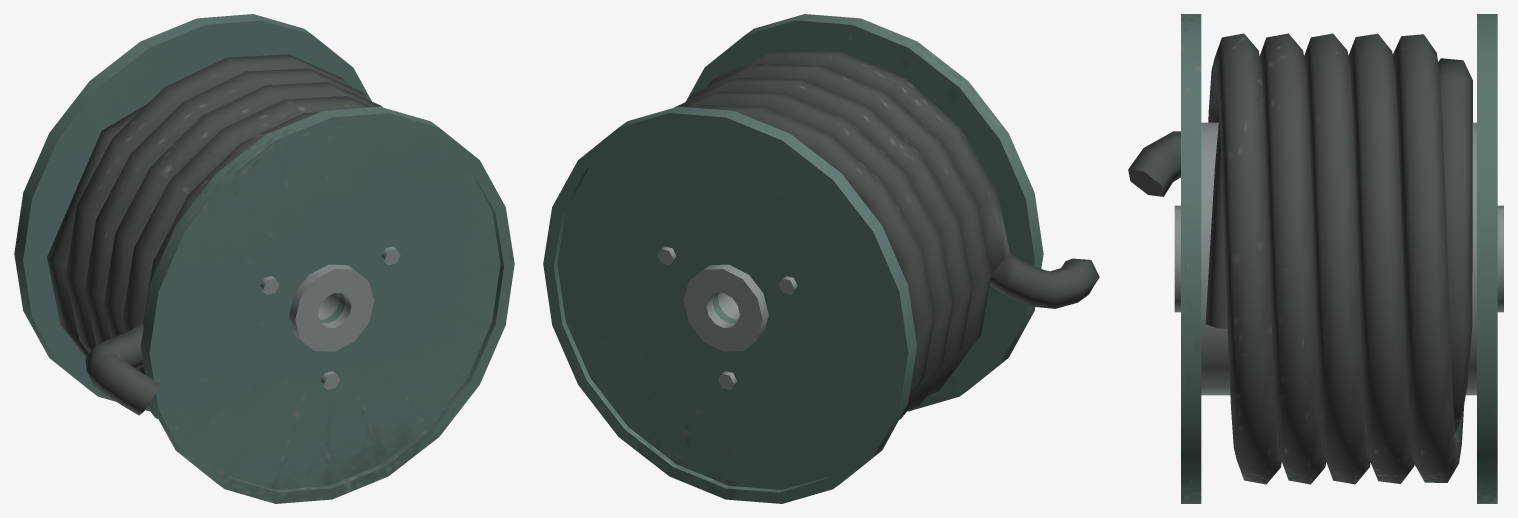
The model's file is cable_reel_metal.glb.
3 views of the same model, side by side, from view 1: azimuth 30°, elevation 25°; view 2: azimuth 150°, elevation 25°; view 3: azimuth 270°, elevation 25° (orthographic). The views are drawn at different scales.
Parts seen in each view (by area): view 1: CableReelMetal; view 2: CableReelMetal; view 3: CableReelMetal.
Boxes of the visible parts, left/top/right/bottom form: CableReelMetal: left=14, top=14, right=514, bottom=503; CableReelMetal: left=543, top=14, right=1099, bottom=503; CableReelMetal: left=1128, top=14, right=1503, bottom=503.
Size of what is drawn, in the model's own units: 1.37 by 1.2 by 0.9132.
1 material, 1 textured.
